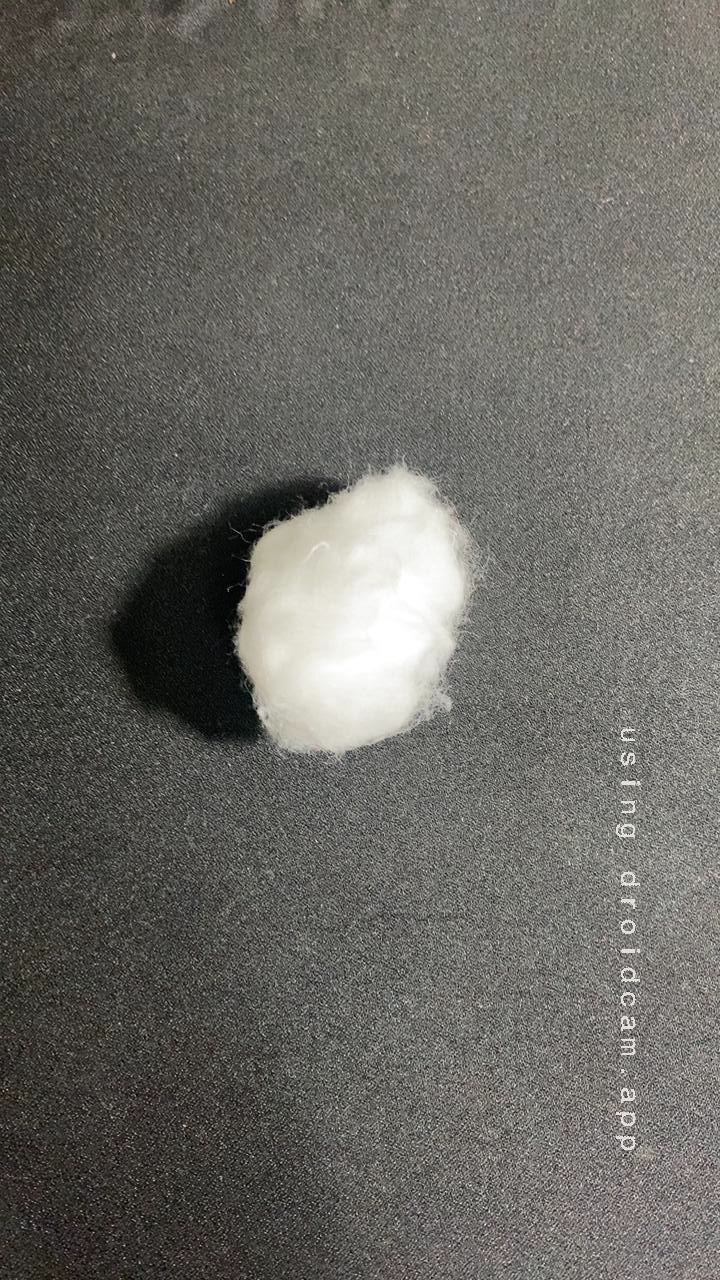cotton: (201, 447, 510, 767)
